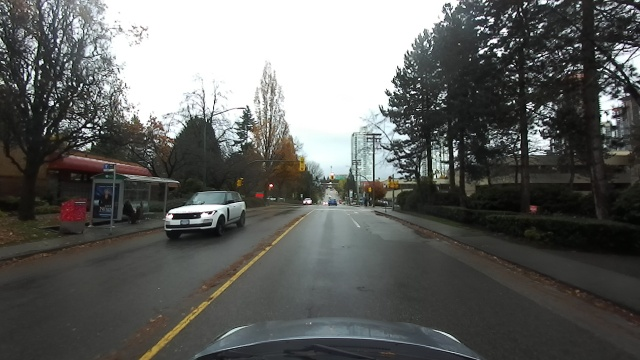car: (157, 188, 251, 242), (300, 197, 314, 205), (326, 198, 338, 207)
